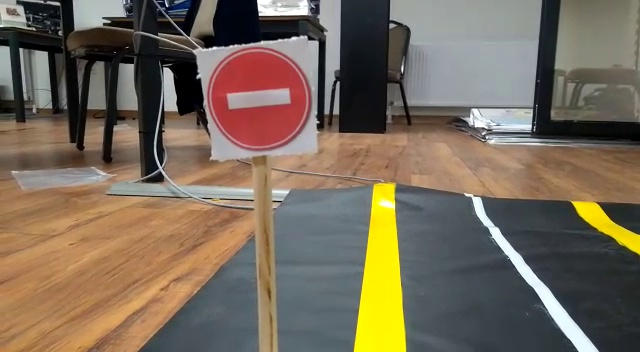girisi_olmayan_yol: (201, 44, 318, 151)
